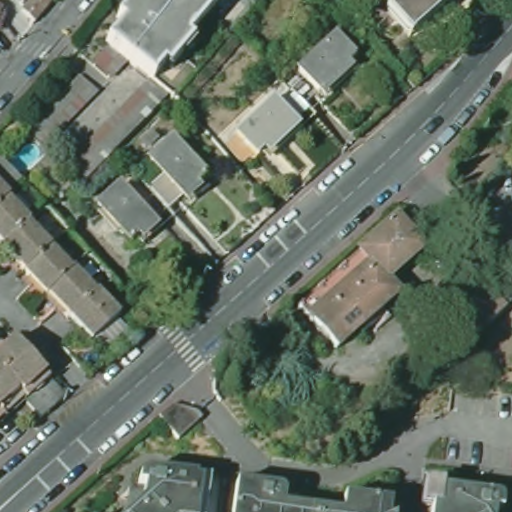pool: (18, 141, 41, 169)
